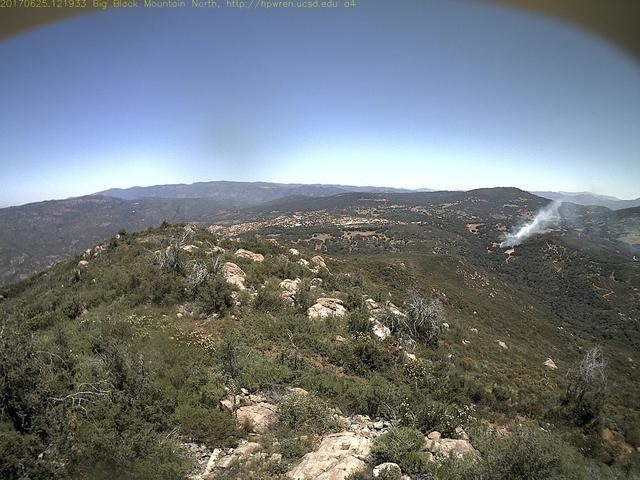smoke: (495, 197, 575, 249)
